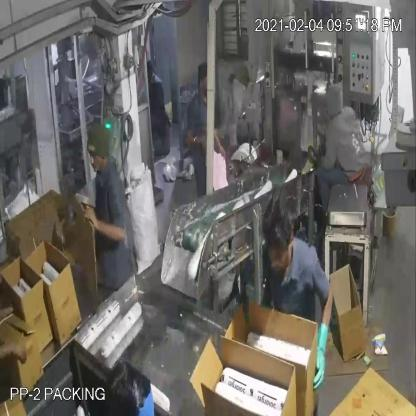glove: (298, 298, 333, 402)
no_glove: (80, 195, 134, 259), (1, 334, 32, 374), (183, 123, 212, 153)
